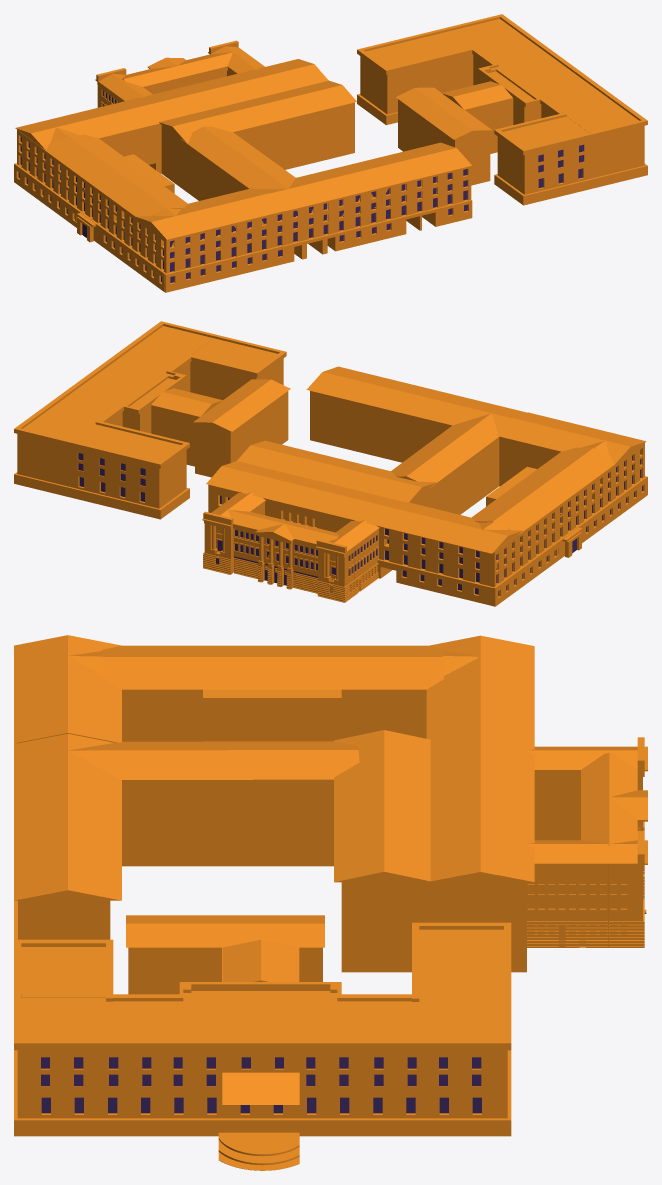
File: UM_RADOM_CAŁY.obj
3 views of the same model, one above another, from view 1: azimuth 30°, elevation 25°; view 2: azimuth 150°, elevation 25°; view 3: azimuth 270°, elevation 25° (orthographic). The views are drawn at different scales.
Parts seen in each view (by area): view 1: UM_RADOM_CAŁY; view 2: UM_RADOM_CAŁY; view 3: UM_RADOM_CAŁY.
Boxes of the visible parts, left/top/right/bottom form: UM_RADOM_CAŁY: left=14, top=14, right=647, bottom=292; UM_RADOM_CAŁY: left=14, top=321, right=647, bottom=606; UM_RADOM_CAŁY: left=14, top=635, right=647, bottom=1170.
Bounding box in the file's own units: 41.88 × 4.45 × 25.46.
